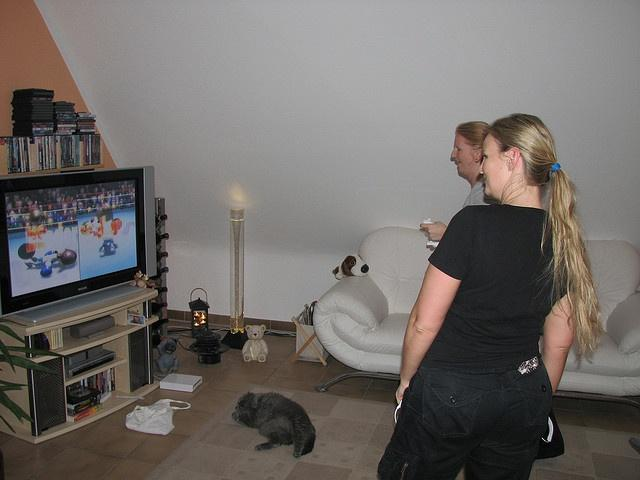AIO PC-Monitor-TV: (0, 164, 156, 317)
